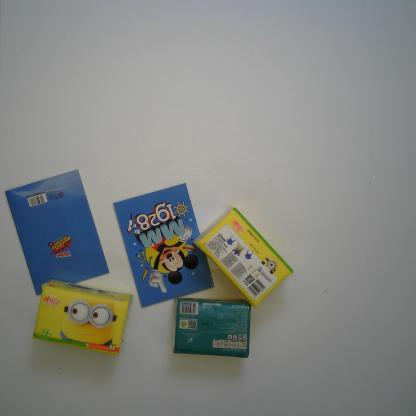Stationery: (5, 168, 110, 296), (113, 182, 215, 309)
Tissue: (192, 206, 294, 309), (31, 279, 134, 356), (172, 296, 252, 359)
